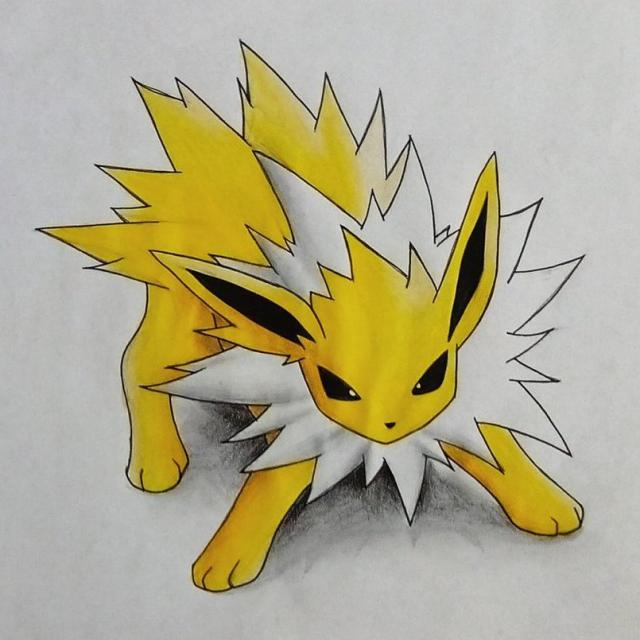Jolteon: (140, 143, 554, 548)
